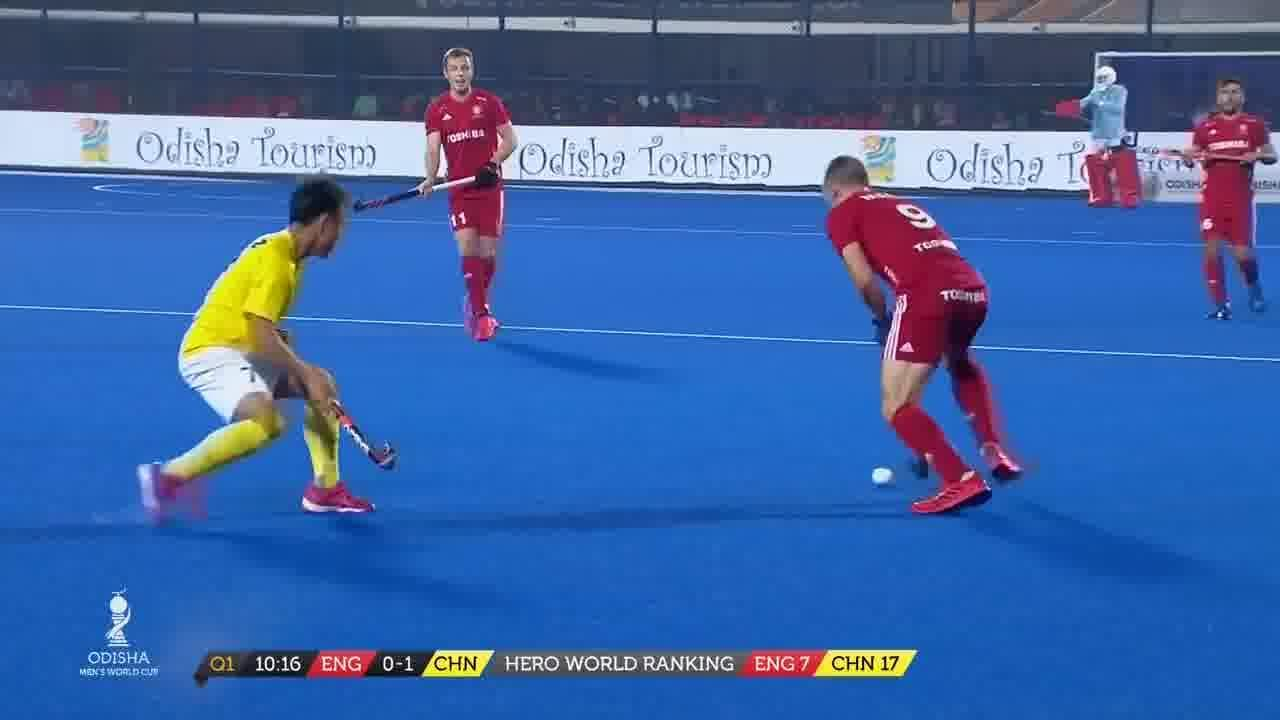ball: (872, 454, 900, 496)
